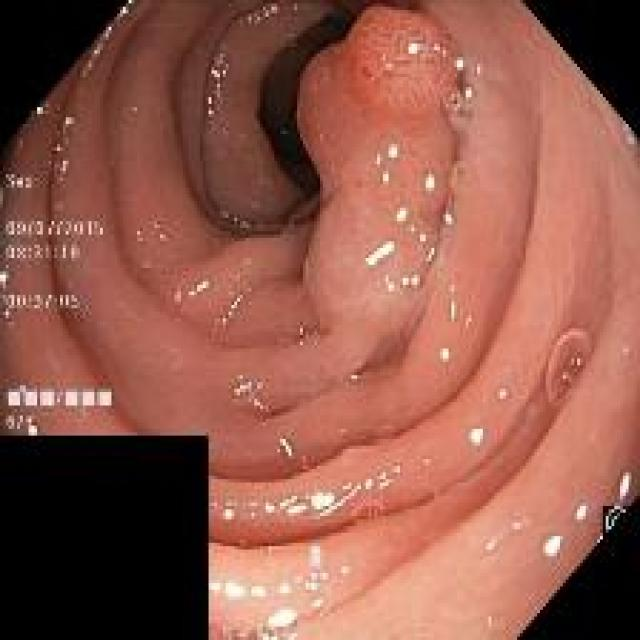Polyps: (275, 6, 460, 397)
